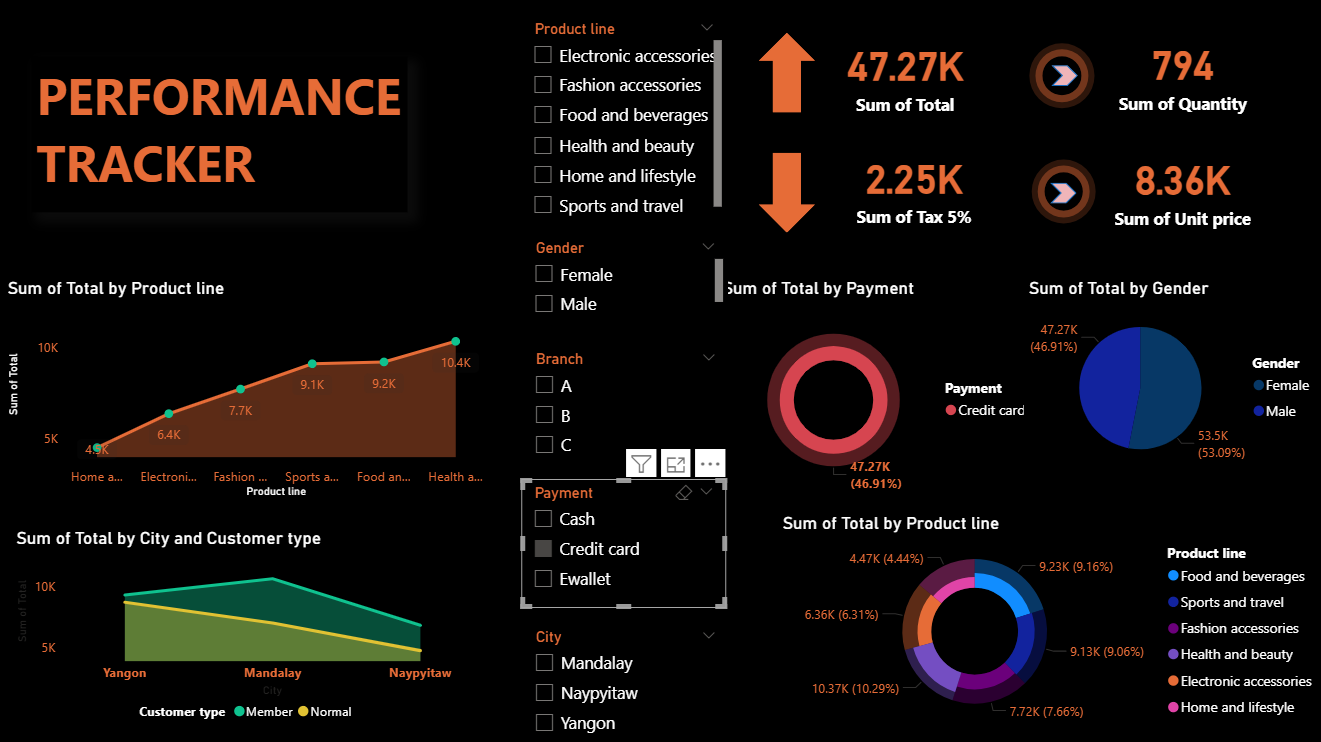

The dashboard page shown, as its layout file describes it:
{"tool":"powerbi","page":{"name":"Page 1","canvas":[1280,720],"ordinal":0},"visuals":[{"type":"donutChart","fields":{"Category":["performance data.Payment"],"Y":["Sum(performance data.Total)"]},"box":[692.9,268.6,311.4,217.1],"z":0},{"type":"pieChart","fields":{"Category":["performance data.Gender"],"Y":["Sum(performance data.Total)"]},"box":[988.6,268.6,291.4,194.3],"z":1000},{"type":"donutChart","fields":{"Category":["performance data.Product line"],"Y":["Sum(performance data.Total)"]},"box":[750,495.7,530,210],"z":2000},{"type":"areaChart","fields":{"Category":["performance data.Product line"],"Y":["Sum(performance data.Total)"]},"box":[2.9,268.6,474.3,217.1],"z":3000},{"type":"areaChart","fields":{"Category":["performance data.City"],"Y":["Sum(performance data.Total)"],"Series":["performance data.Customer type"]},"box":[11.4,510,457.1,195.7],"z":4000},{"type":"card","fields":{"Values":["Sum(performance data.Tax 5%)"]},"box":[744.3,124.3,275.7,114.3],"z":5000},{"type":"card","fields":{"Values":["Sum(performance data.Total)"]},"box":[735.7,15.7,275.7,114.3],"z":6000},{"type":"card","fields":{"Values":["Sum(performance data.Unit price)"]},"box":[1004.3,125.7,275.7,114.3],"z":7000},{"type":"card","fields":{"Values":["Sum(performance data.Quantity)"]},"box":[1003.3,14.7,275.7,114.3],"z":8000},{"type":"shape","box":[732.9,32.9,54.3,77.1],"z":9000},{"type":"shape","box":[732.9,148.6,54.3,77.1],"z":10000},{"type":"donutChart","fields":{"Y":["Sum(performance data.Total)"],"Category":["performance data.Payment"]},"box":[982.9,111.4,87.1,150],"z":11000},{"type":"shape","box":[1012.9,177.1,25.7,20],"z":12000},{"type":"donutChart","fields":{"Y":["Sum(performance data.Total)"],"Category":["performance data.Payment"]},"box":[981.4,0,88.6,148.6],"z":13000},{"type":"textbox","box":[30,55.7,362.9,150],"z":14000},{"type":"slicer","fields":{"Values":["performance data.Product line"]},"box":[502.9,15.7,198.6,201.4],"z":15000},{"type":"shape","box":[1014.3,64.3,25.7,20],"z":16000},{"type":"slicer","fields":{"Values":["performance data.Gender"]},"box":[504.3,227.1,198.6,82.9],"z":16001},{"type":"slicer","fields":{"Values":["performance data.Branch"]},"box":[504.3,334.3,198.6,91.4],"z":16002},{"type":"slicer","fields":{"Values":["performance data.Payment"]},"box":[502.9,442.9,198.6,124.3],"z":16003},{"type":"slicer","fields":{"Values":["performance data.City"]},"box":[504.3,567.1,198.6,118.6],"z":16004}]}

Visuals, with their boxes in screenshot pixels (x1, y1, x2, y2), scaled from the page's 1280x720 canvas onto the 1321x742 screenshot:
donutChart - performance data.Payment x Sum(performance data.Total): (715, 277, 1036, 501)
pieChart - performance data.Gender x Sum(performance data.Total): (1020, 277, 1320, 477)
donutChart - performance data.Product line x Sum(performance data.Total): (774, 511, 1320, 727)
areaChart - performance data.Product line x Sum(performance data.Total): (3, 277, 492, 501)
areaChart - performance data.City x Sum(performance data.Total): (12, 526, 484, 727)
card - Sum(performance data.Tax 5%): (768, 128, 1053, 246)
card - Sum(performance data.Total): (759, 16, 1044, 134)
card - Sum(performance data.Unit price): (1036, 130, 1320, 247)
card - Sum(performance data.Quantity): (1035, 15, 1320, 133)
shape: (756, 34, 812, 113)
shape: (756, 153, 812, 233)
donutChart - Sum(performance data.Total) x performance data.Payment: (1014, 115, 1104, 269)
shape: (1045, 183, 1072, 203)
donutChart - Sum(performance data.Total) x performance data.Payment: (1013, 0, 1104, 153)
textbox: (31, 57, 405, 212)
slicer - performance data.Product line: (519, 16, 724, 224)
shape: (1047, 66, 1073, 87)
slicer - performance data.Gender: (520, 234, 725, 319)
slicer - performance data.Branch: (520, 345, 725, 439)
slicer - performance data.Payment: (519, 456, 724, 585)
slicer - performance data.City: (520, 584, 725, 707)
